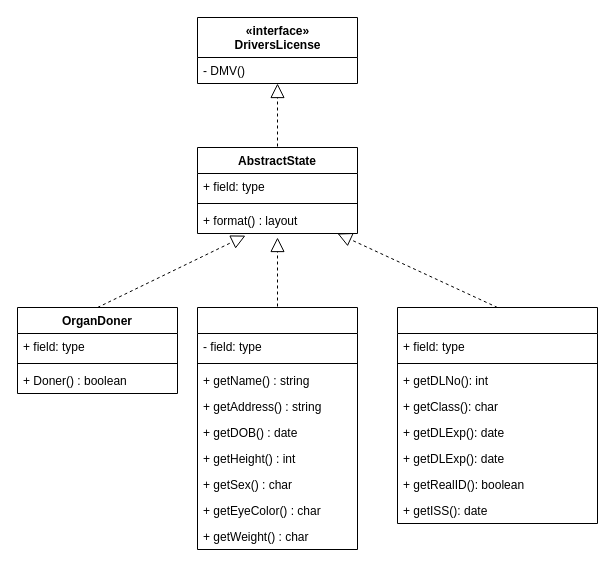
Image size: 615x570. Some labels were removed from this diagram. The shapes that lost their labels are listed below. From the top down, each one's box as (x1, y1, x2, y2) in pixels, then its label:
(196, 306, 358, 550): Personal ID Info
(396, 306, 598, 524): DMV Info
